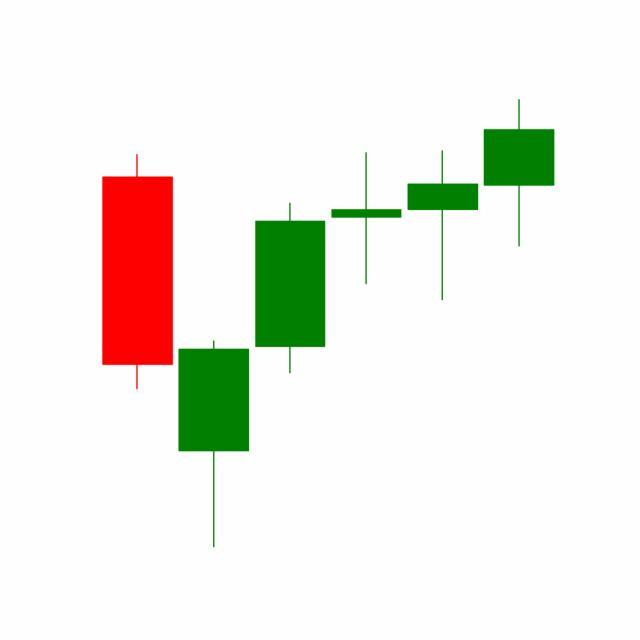Up-Down Gap Side-by-side White Lines: (252, 149, 482, 377)
